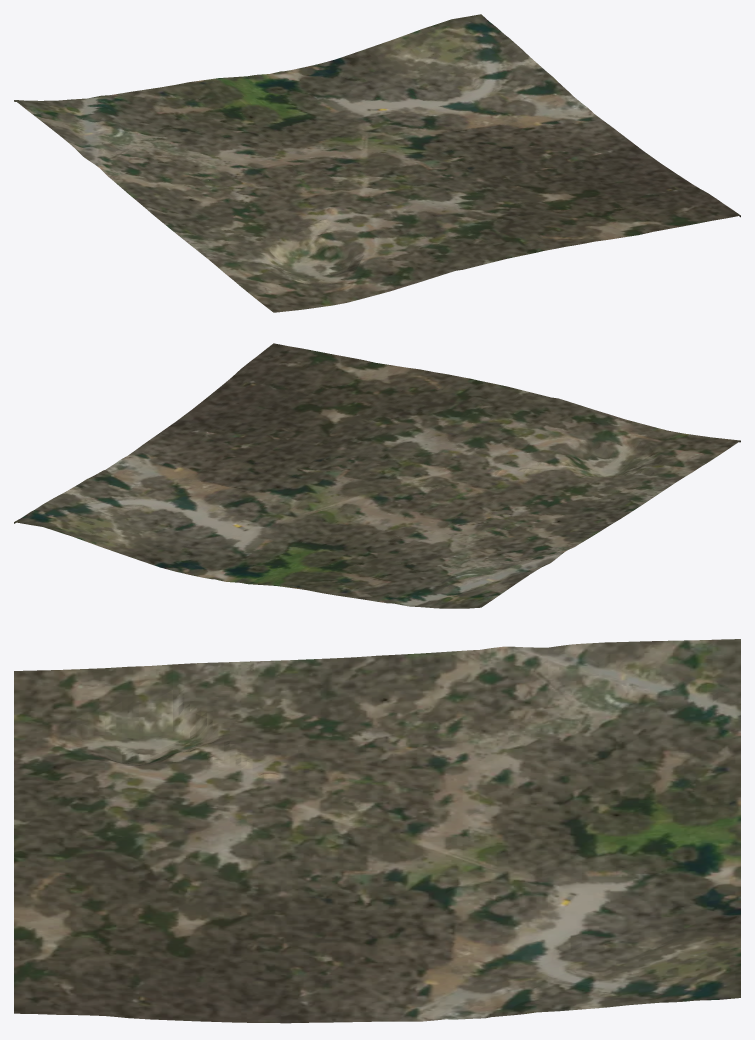
3 views of the same model, one above another, from view 1: azimuth 30°, elevation 25°; view 2: azimuth 150°, elevation 25°; view 3: azimuth 270°, elevation 25° (orthographic). The views are drawn at different scales.
Size of the model in its own units: 250 by 24.75 by 241.
Materials: 1 (1 with a texture image).
